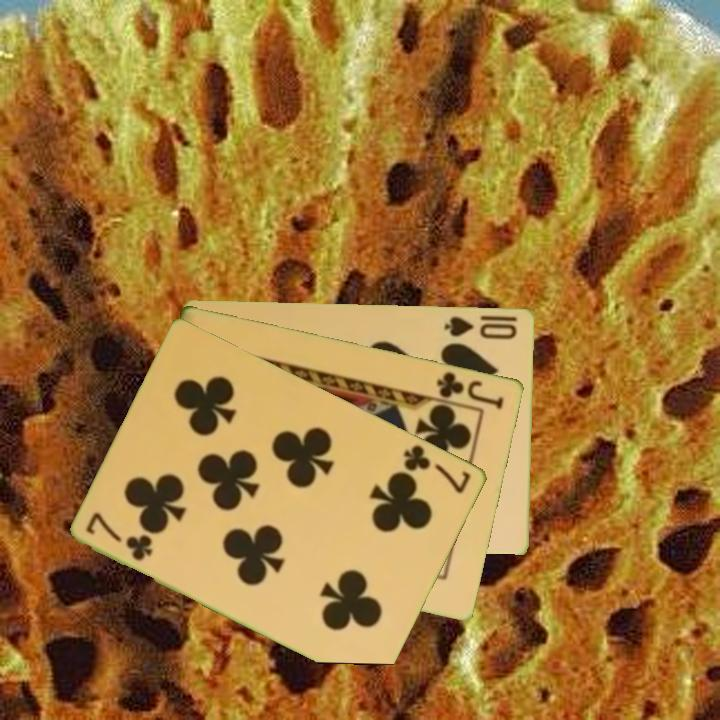10s: (441, 312, 520, 342)
7c: (400, 441, 475, 496), (82, 509, 157, 564)
Jc: (433, 368, 507, 412)
